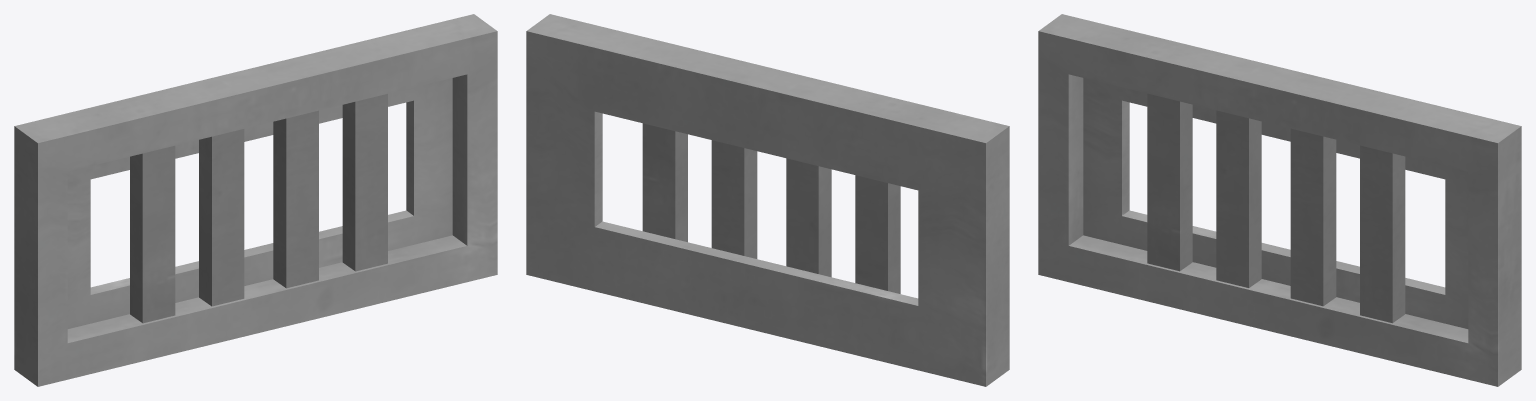
Rendered from Pfb_Prison_Cage3.fbx.
The picture shows the model from 3 angles, left to right: view 1: azimuth 30°, elevation 25°; view 2: azimuth 150°, elevation 25°; view 3: azimuth 330°, elevation 25°; orthographic projection.
Visible parts, largest first — view 1: Mat_Prison_Cage; view 2: Mat_Prison_Cage; view 3: Mat_Prison_Cage.
Part boxes in pixels (x1,y1,x2,y2): Mat_Prison_Cage: (14, 14, 497, 386); Mat_Prison_Cage: (526, 14, 1009, 386); Mat_Prison_Cage: (1038, 14, 1521, 386).
Size of the model in its own units: 1.83 by 0.9289 by 0.1618.
Materials: 1 (1 with a texture image).
